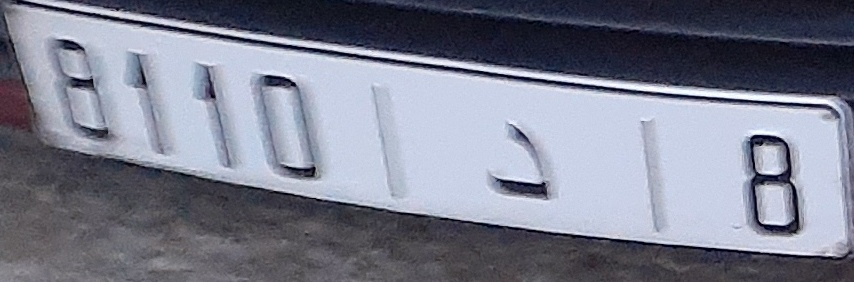0: (247, 70, 326, 187)
1: (118, 45, 175, 158), (185, 58, 242, 171)
8: (42, 36, 116, 148), (737, 126, 809, 241)
d: (482, 116, 561, 211)
